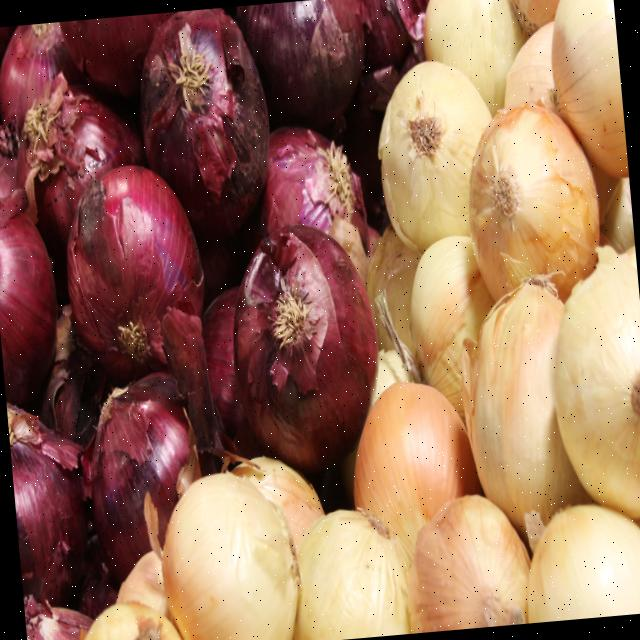Onion: (233, 223, 378, 471), (461, 274, 592, 539), (66, 164, 203, 382), (140, 7, 269, 238), (470, 101, 600, 300), (16, 71, 144, 259), (161, 472, 300, 640), (555, 245, 640, 519), (354, 382, 481, 557), (378, 59, 492, 250), (90, 373, 188, 582), (259, 125, 376, 284), (408, 495, 531, 632), (236, 0, 365, 128), (6, 402, 85, 605), (410, 235, 495, 420), (293, 508, 410, 640), (552, 0, 629, 176), (528, 505, 640, 623), (425, 0, 526, 114), (0, 211, 56, 404), (59, 12, 171, 95), (0, 22, 82, 131), (505, 19, 560, 112), (82, 602, 182, 640)
